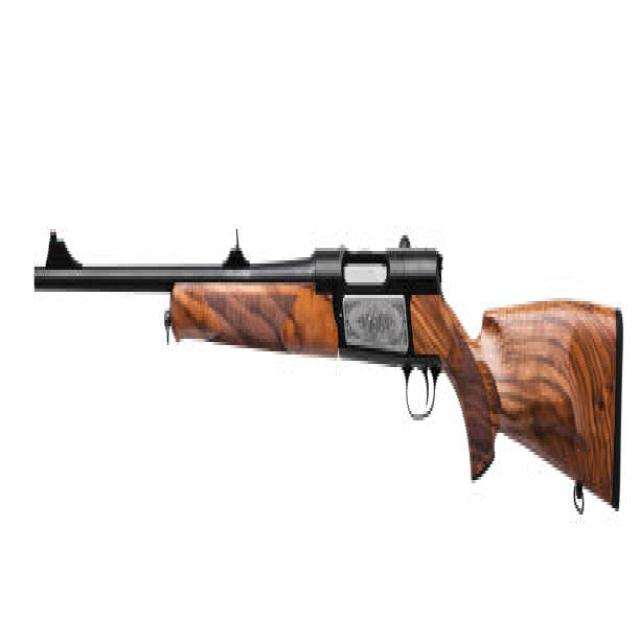rifle: (28, 216, 630, 550)
